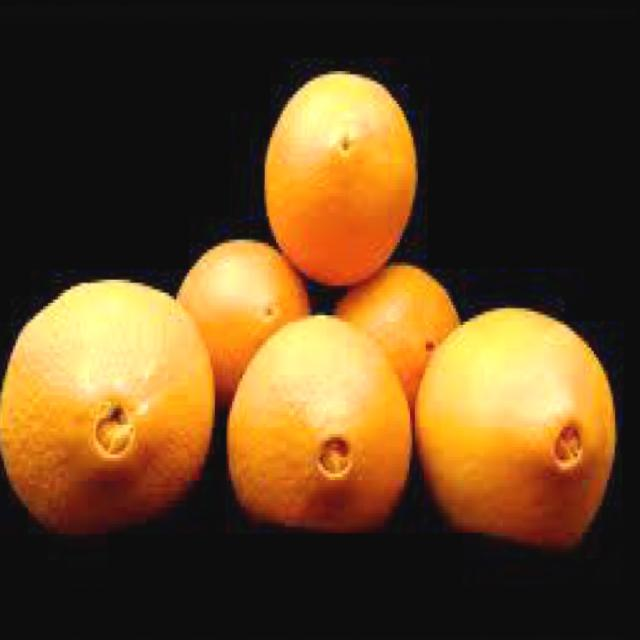orange: (0, 275, 218, 537), (412, 299, 621, 549), (225, 310, 416, 530), (258, 64, 423, 284), (176, 239, 308, 383), (332, 261, 460, 372)
